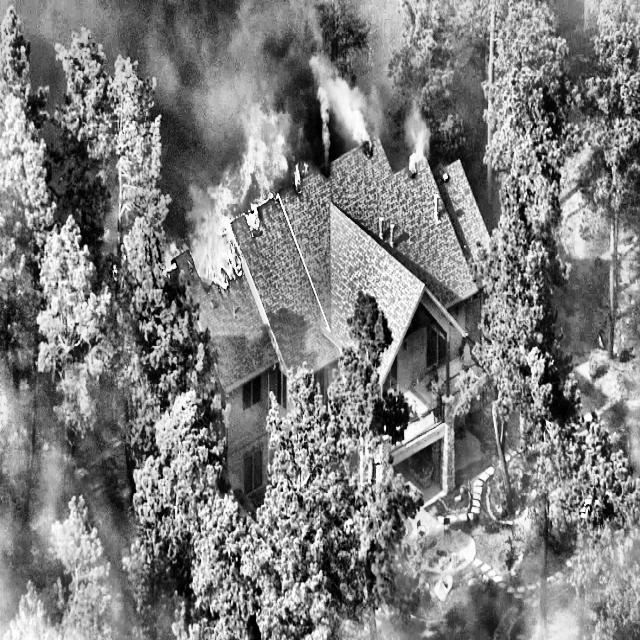fire: (162, 92, 392, 338)
